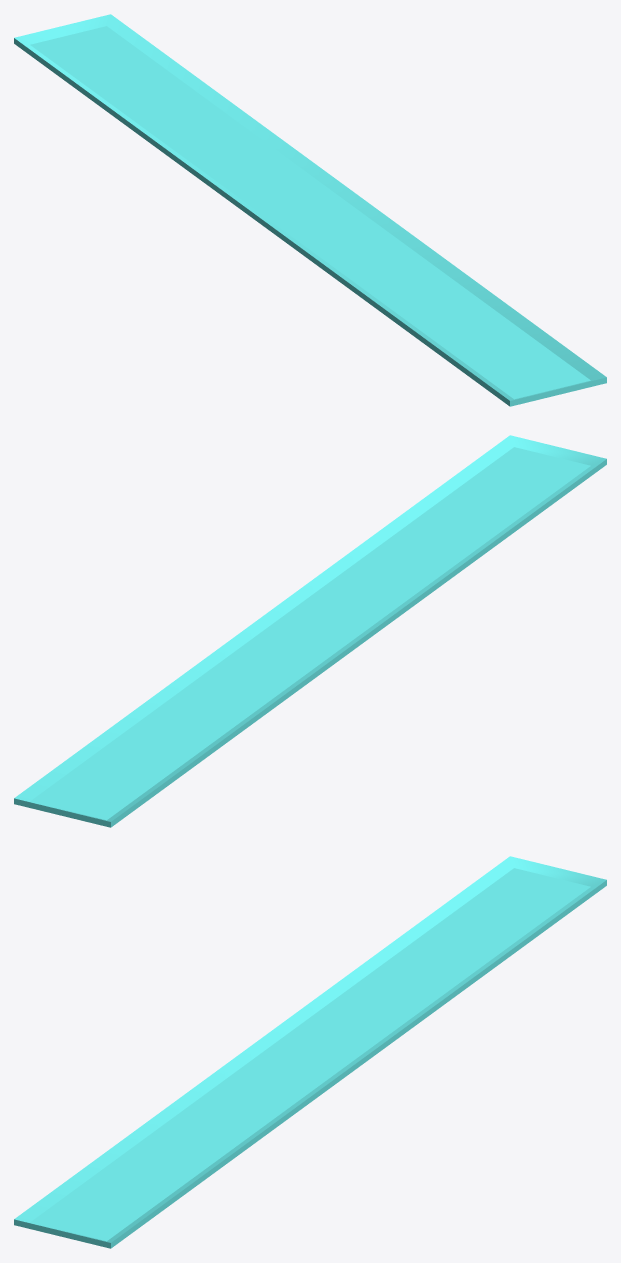
The model's file is river.glb.
3 renders of one model, top to bottom at view 1: azimuth 30°, elevation 25°; view 2: azimuth 150°, elevation 25°; view 3: azimuth 330°, elevation 25°, orthographic.
Parts seen in each view (by area): view 1: River.001; view 2: River.001; view 3: River.001.
Part boxes in pixels (x1,y1,x2,y2): River.001: (14, 14, 606, 406); River.001: (14, 435, 606, 827); River.001: (14, 856, 606, 1248).
Size of the model in its own units: 1.02 by 0.0583 by 9.05.
